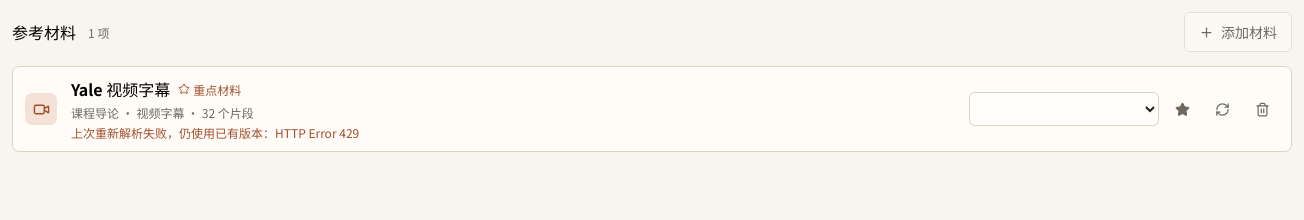
Test case: MaterialLibrary › keeps a ready material usable when its latest refresh failed
Check: the text "上次重新解析失败，仍使用已有版本：HTTP Error 429" is shown, box [71,124,359,141]
Click the button named "刷新 Yale 视频字幕": (1222, 109) [1205,92,1239,126]
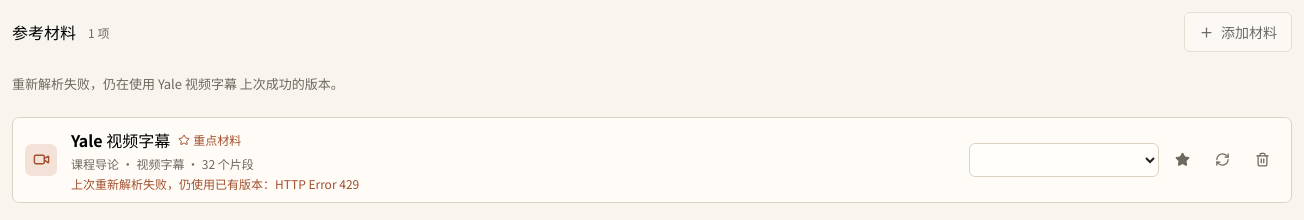
Check: the message reads "重新解析失败，仍在使用 Yale 视频字幕 上次成功的版本。", box [12,74,344,93]
